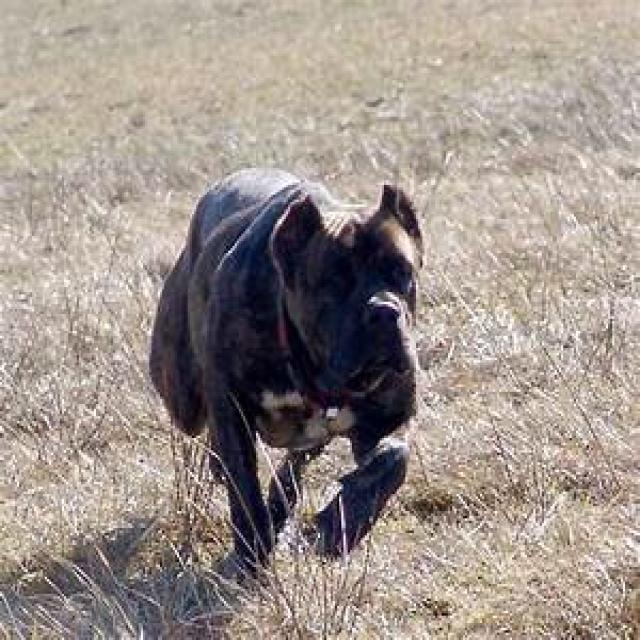dog: (147, 168, 425, 584)
